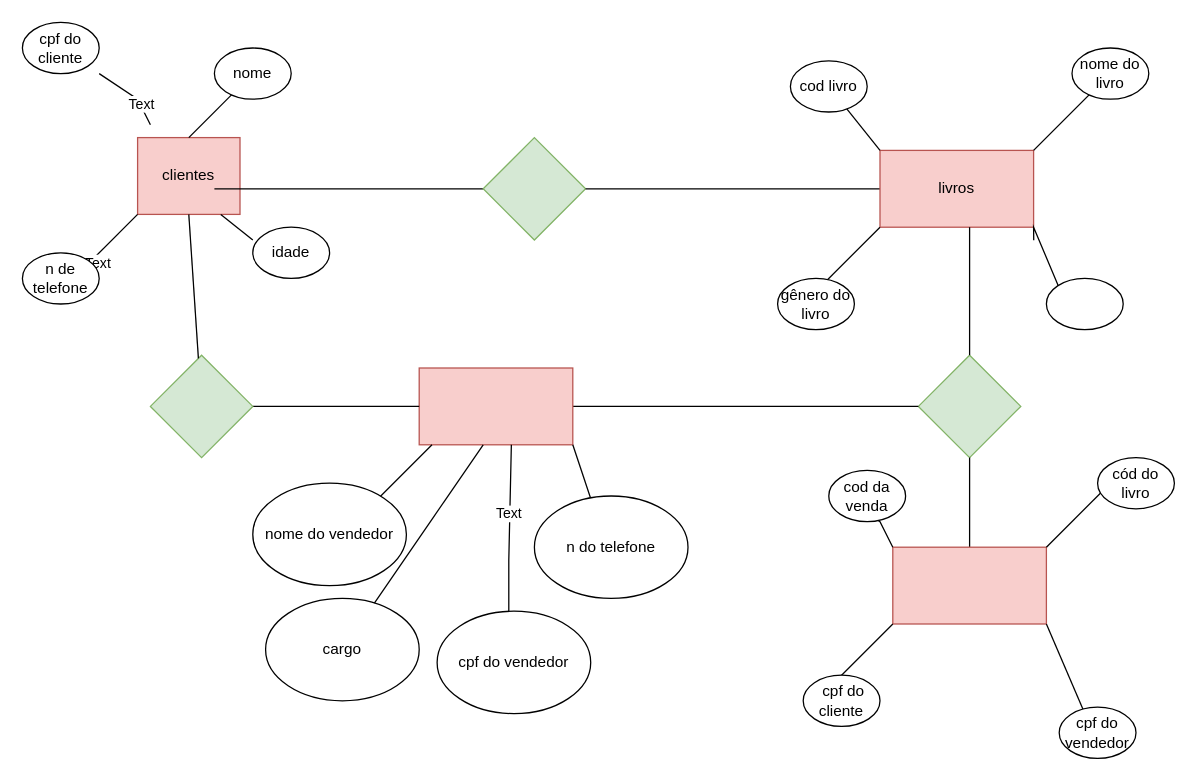
Some shapes in this 1197 by 781 pixel diagram are drawn without their labels. Each missing label, with the centre of its shape:
ano de plubicaçâo: the point at 1084,303
atende: the point at 201,406
compra: the point at 534,188
vendas: the point at 969,585
vende: the point at 969,406
vendedor: the point at 495,406
